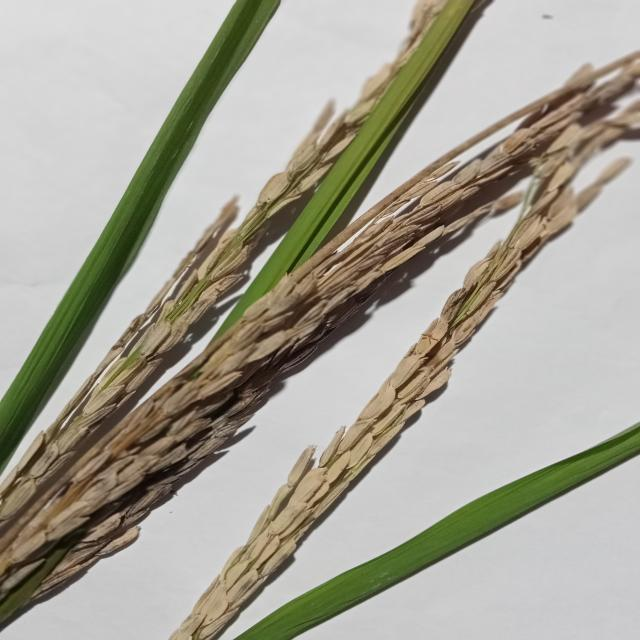Neck_Blast: (0, 43, 640, 640), (168, 162, 605, 640)
